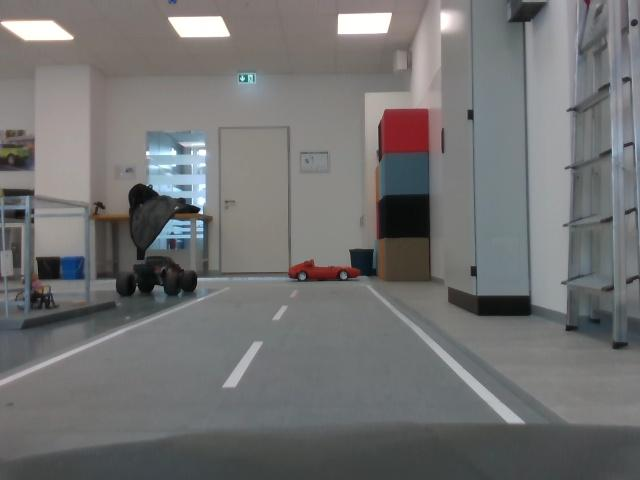car: (113, 254, 206, 305), (286, 255, 364, 287)
person: (13, 268, 66, 314)
